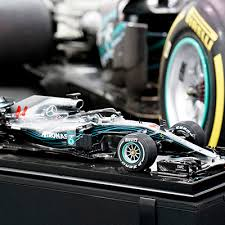f1_car: (1, 87, 225, 190)
